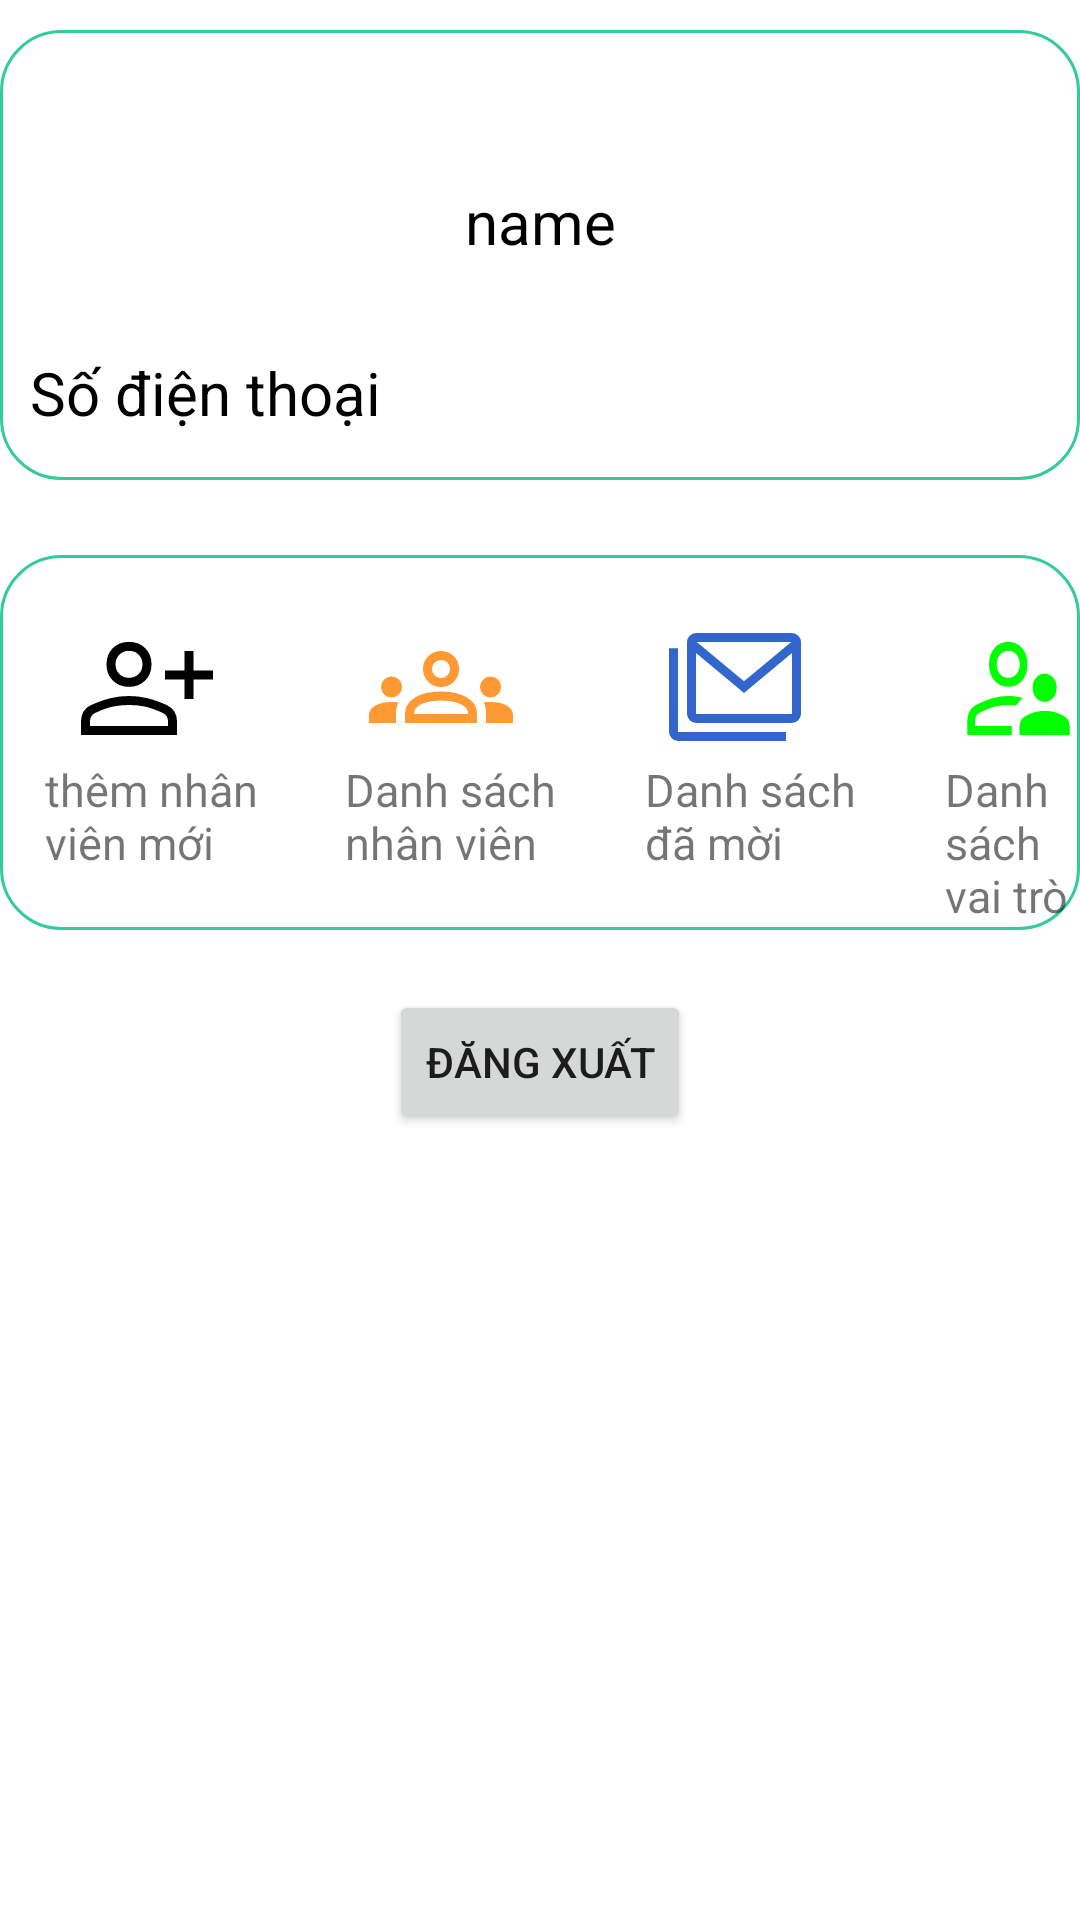

Named icons in this screenshot (1080px x 1920px) and their bounding boxes, [left=x1, top=y1, right=x2, bottom=y2]:
danh sach da moi: [left=669, top=633, right=801, bottom=741]
danh sach vai tro: [left=967, top=641, right=1070, bottom=735]
groups nhanvien: [left=369, top=651, right=513, bottom=723]
